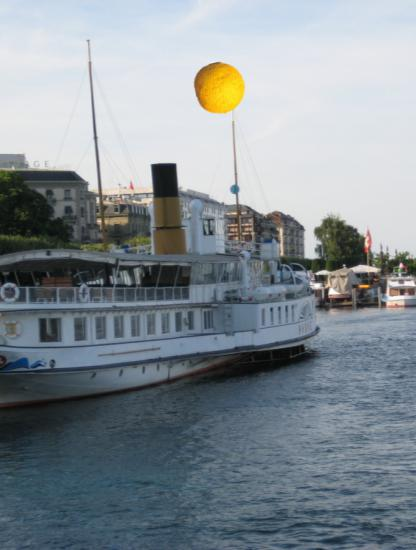Cantaloupe: (194, 62, 247, 115)
